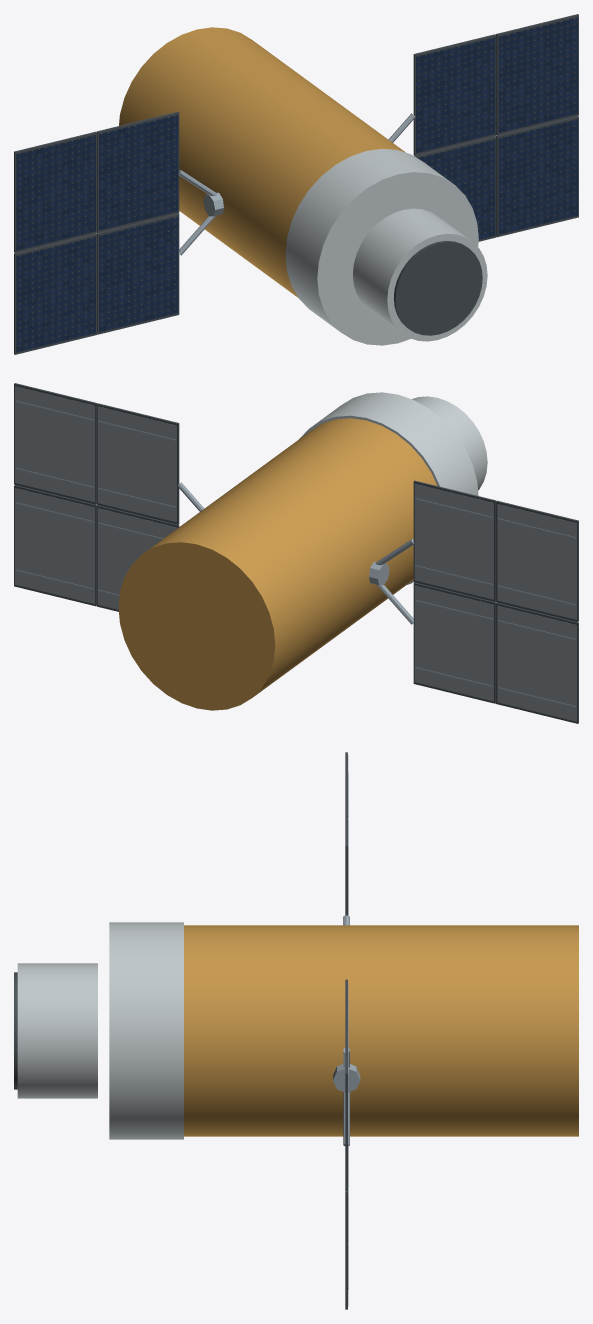
Rendered from ref-elektro-19073.glb.
3 views of the same model, one above another, from view 1: azimuth 30°, elevation 25°; view 2: azimuth 150°, elevation 25°; view 3: azimuth 270°, elevation 25° (orthographic). The views are drawn at different scales.
Visible parts, largest first — view 1: Solar cell panel (×8), Service barrel, Equipment flange, Solar panel frame (×8), Optical instrument housing, Telescope aperture; view 2: Rear array substrate (×8), Service barrel, Solar panel frame (×8), Equipment flange, Optical instrument housing; view 3: Service barrel, Equipment flange, Optical instrument housing.
Boxes of the visible parts, left/top/right/bottom form: Solar cell panel (×8): left=16, top=17, right=577, bottom=352; Service barrel: left=119, top=27, right=405, bottom=297; Equipment flange: left=285, top=148, right=478, bottom=345; Solar panel frame (×8): left=14, top=14, right=578, bottom=354; Optical instrument housing: left=353, top=208, right=487, bottom=341; Telescope aperture: left=393, top=240, right=482, bottom=335; Rear array substrate (×8): left=15, top=386, right=576, bottom=721; Service barrel: left=118, top=418, right=437, bottom=710; Solar panel frame (×8): left=14, top=383, right=578, bottom=723; Equipment flange: left=299, top=392, right=478, bottom=584; Optical instrument housing: left=412, top=396, right=487, bottom=490; Service barrel: left=184, top=925, right=578, bottom=1136; Equipment flange: left=109, top=922, right=183, bottom=1139; Optical instrument housing: left=17, top=963, right=97, bottom=1098.
Size of the model in its own units: 8.99 by 3.08 by 6.68.
6 materials, 1 textured.
